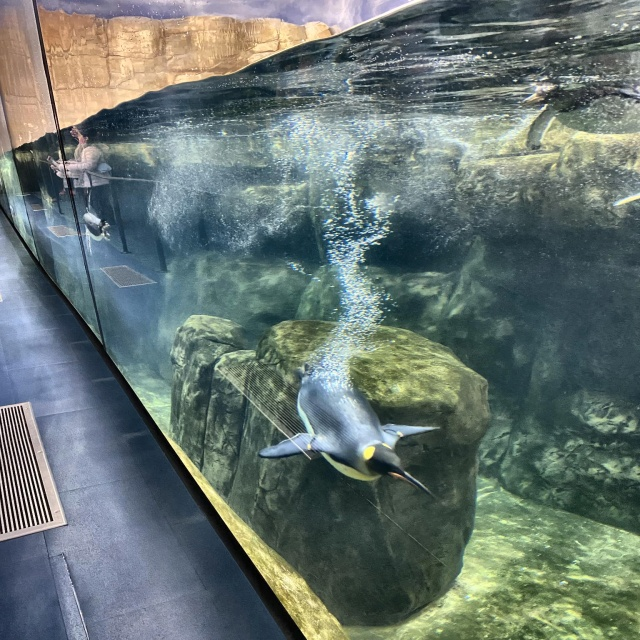penguin: (258, 362, 440, 498), (524, 76, 639, 148), (82, 208, 111, 242)
